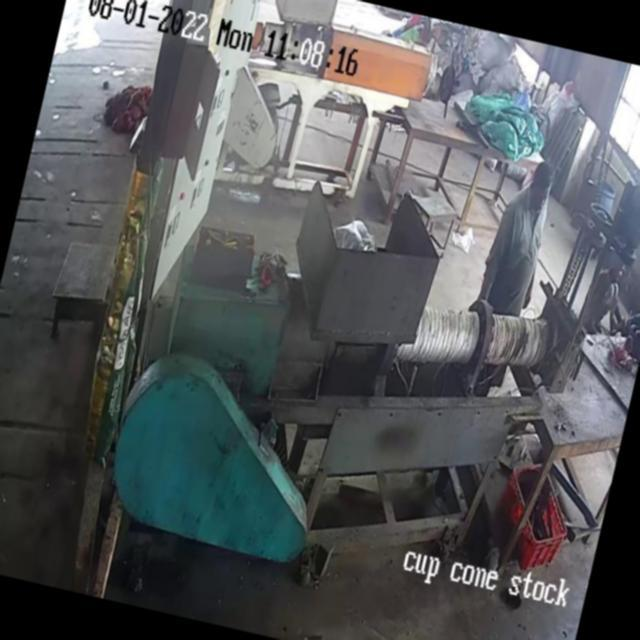person: (484, 157, 566, 309)
